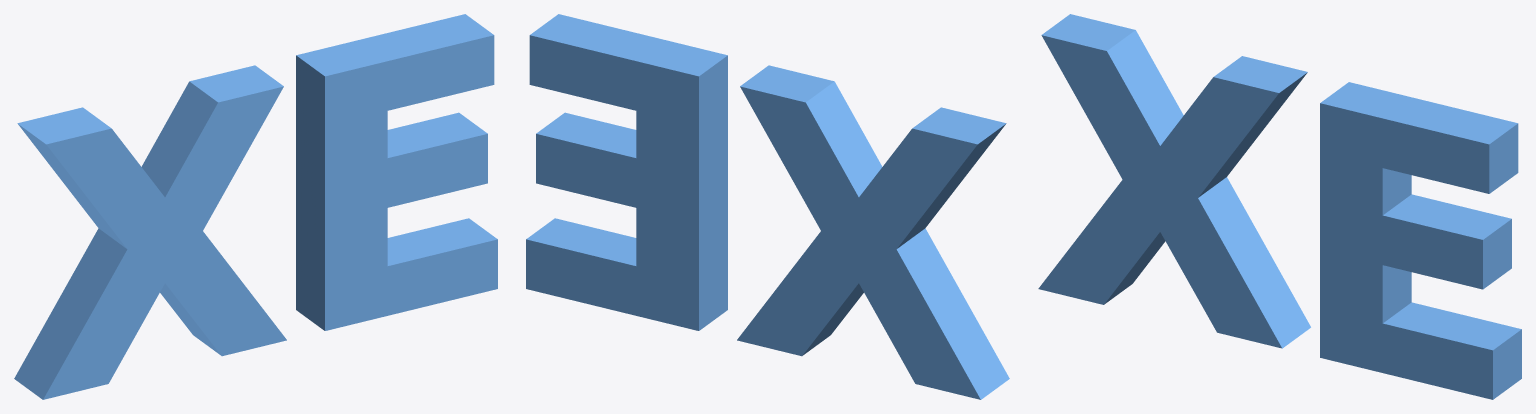
Rendered from suku_besar_xe.glb.
3 renders of one model, left to right at view 1: azimuth 30°, elevation 25°; view 2: azimuth 150°, elevation 25°; view 3: azimuth 330°, elevation 25°, orthographic.
Parts seen in each view (by area): view 1: geometry_0; view 2: geometry_0; view 3: geometry_0.
Part boxes in pixels (x1,y1,x2,y2): geometry_0: (14,14,497,399); geometry_0: (526,14,1009,399); geometry_0: (1038,14,1521,399).
Size of the model in its own units: 13.63 by 7.29 by 1.5.
